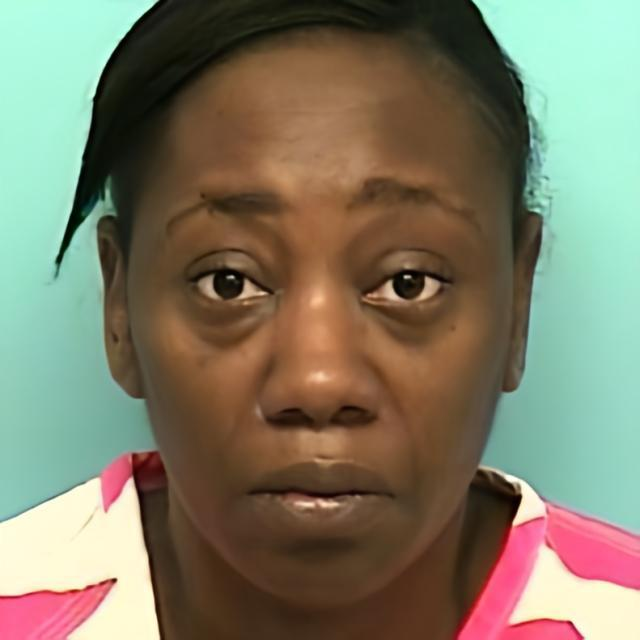sad: (127, 22, 504, 610)
